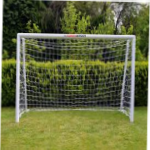goals: (15, 29, 139, 124)
